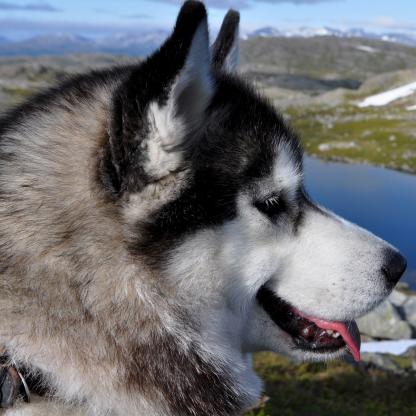dog: (0, 1, 407, 416)
